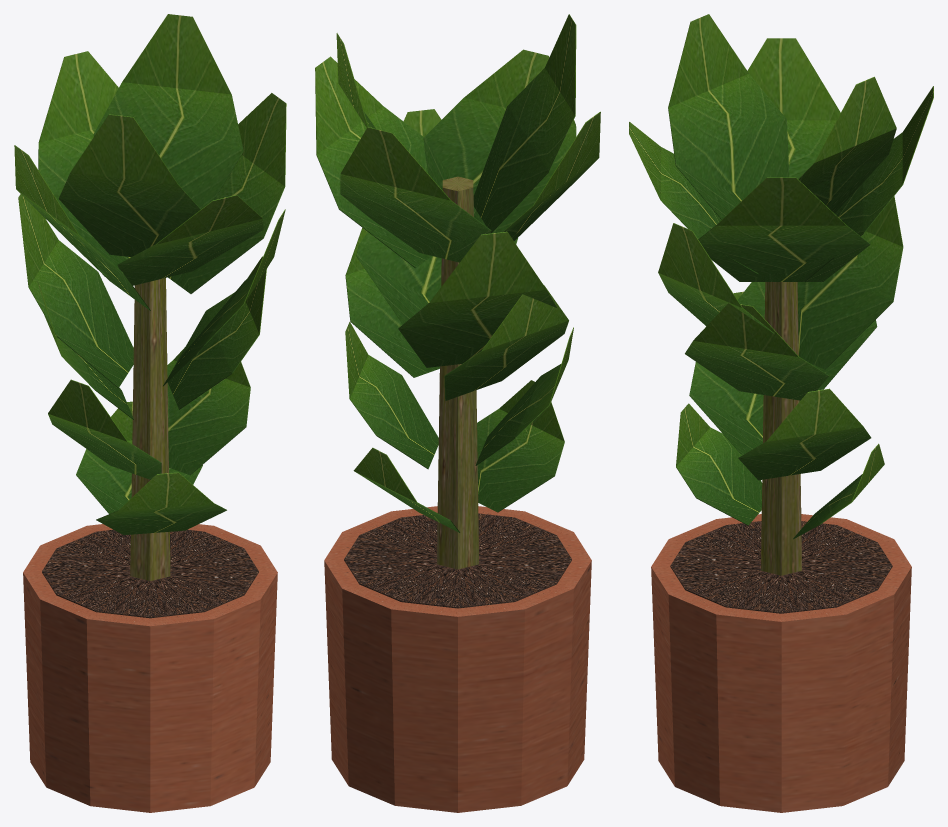
Rendered from plant.glb.
3 renders of one model, left to right at view 1: azimuth 30°, elevation 25°; view 2: azimuth 150°, elevation 25°; view 3: azimuth 270°, elevation 25°, orthographic. The views are drawn at different scales.
Visible parts, largest first — view 1: core_plant; view 2: core_plant; view 3: core_plant.
Boxes of the visible parts, box(x1,y1,x2,y2) form: core_plant: box(14, 14, 286, 812); core_plant: box(315, 14, 600, 812); core_plant: box(629, 14, 933, 812).
Bounding box in the file's own units: 0.384 × 0.9954 × 0.384.
Materials: 1 (1 with a texture image).
